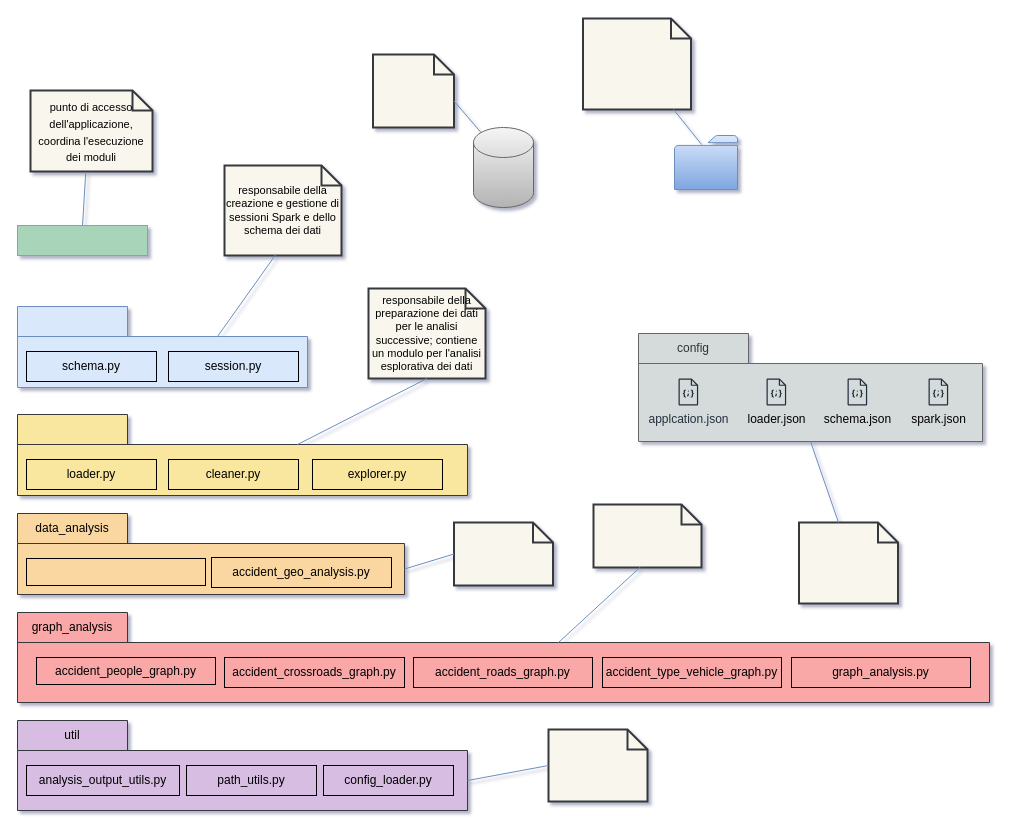
This 1013x834 diagram has some shape labels left out. Each missing label, with the box of its shape:
accident_analysis.py: (26, 558, 206, 586)
contiene i dataset grezzi: (372, 53, 454, 128)
contiene i file di configurazione del progetto: (798, 521, 898, 604)
data_preparation: (16, 414, 468, 496)
fornisce funzioni comuni di utilità e di supporto: (547, 728, 648, 802)
main.py: (16, 224, 148, 256)
raccoglie i risultati del progetto, come grafici e mappe interattive: (582, 17, 692, 110)
responsabile dell'analisi dei dati: (452, 521, 554, 586)
responsabile dell'analisi dei grafi: (592, 503, 702, 568)
spark: (16, 306, 308, 388)
